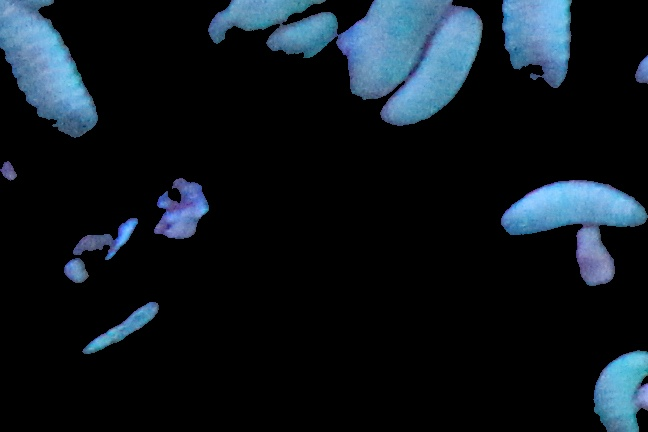larvae: (1, 6, 99, 138), (378, 8, 482, 125), (345, 1, 454, 98), (499, 177, 648, 236), (499, 1, 572, 88), (205, 1, 329, 46), (591, 345, 648, 432), (266, 12, 337, 76)
